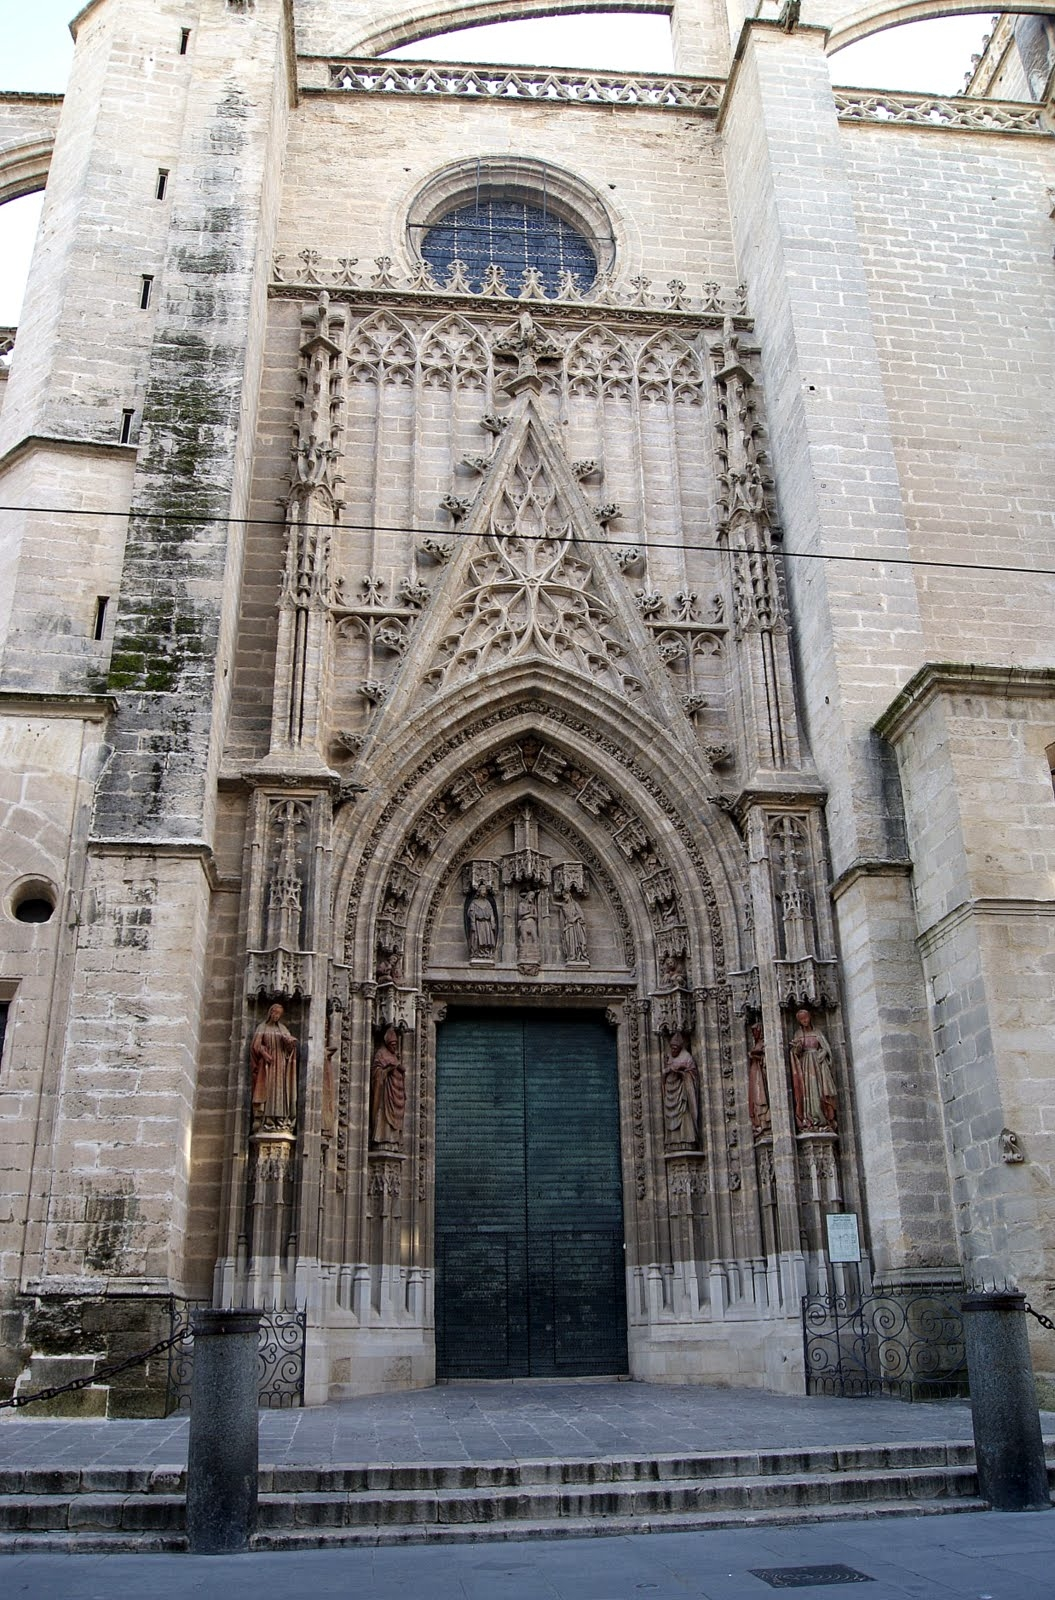arco-apuntado: (336, 648, 739, 974)
